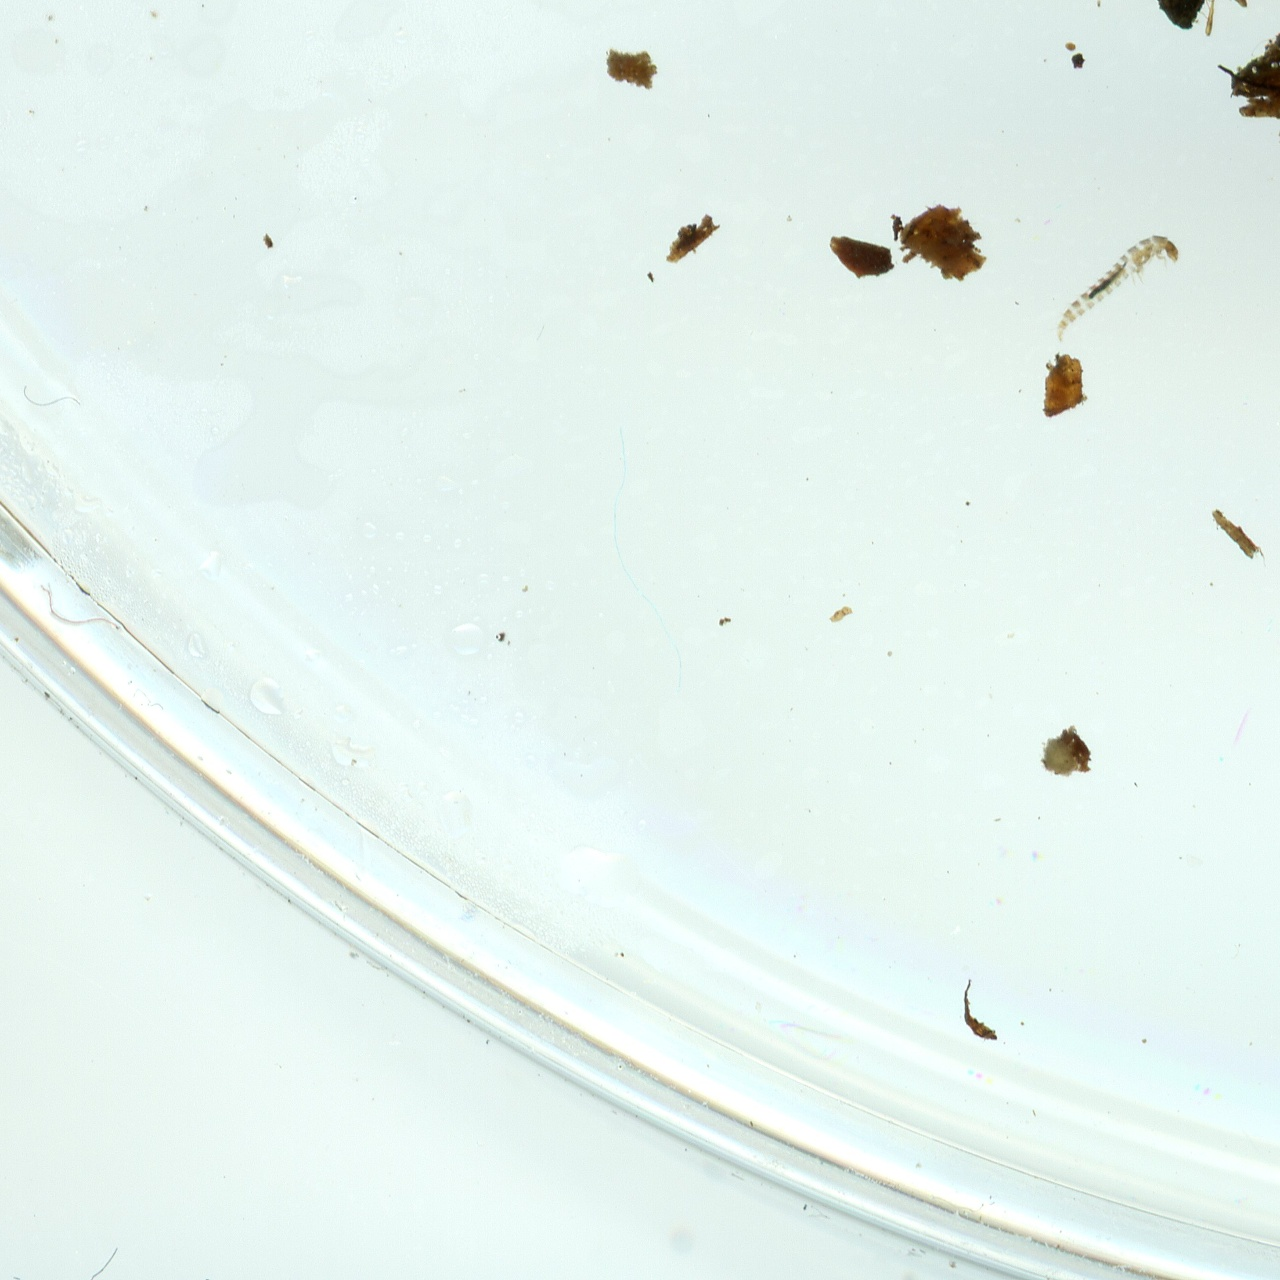arthropod: (1030, 216, 1191, 354)
